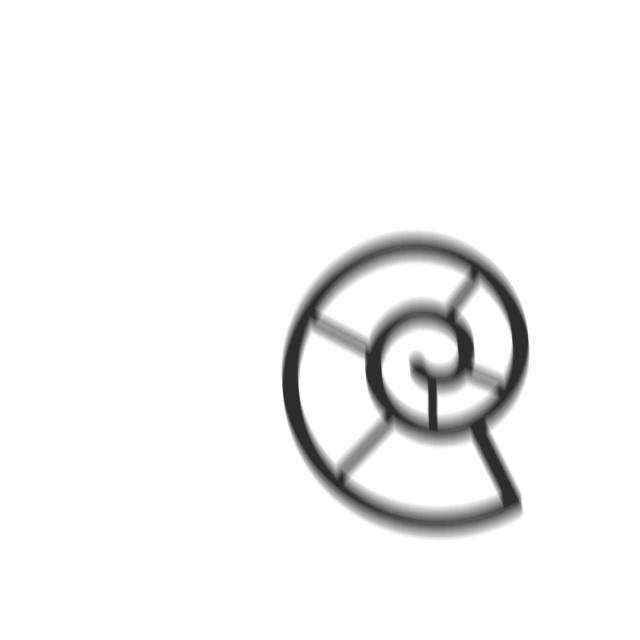fossil: (270, 228, 542, 545)
